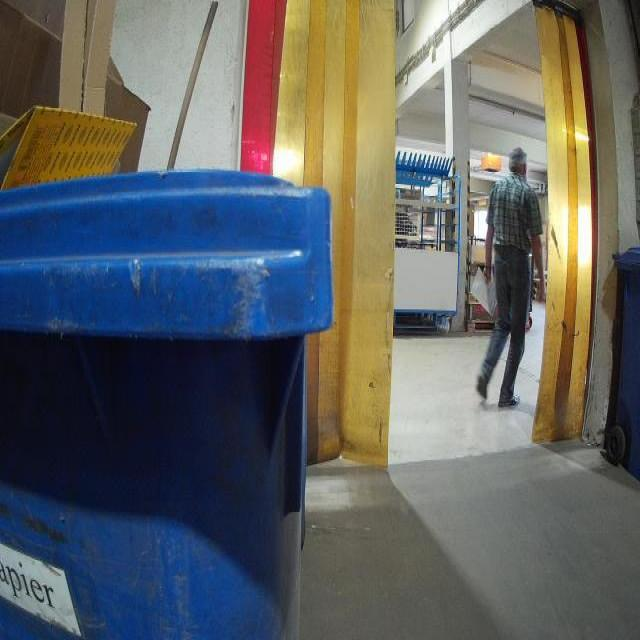pallet: (463, 318, 495, 333)
